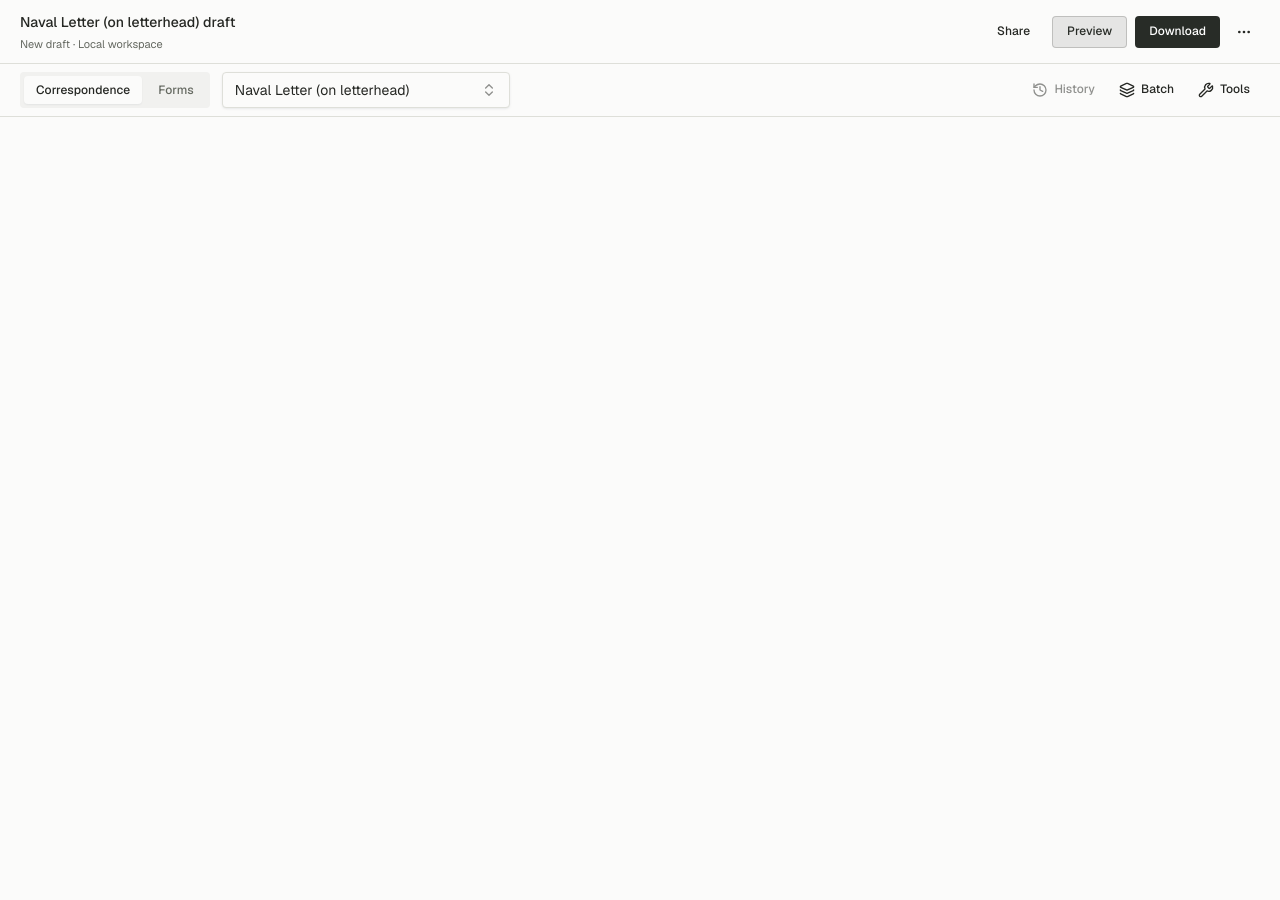
Test case: distinguishes individual draft files from the whole workspace backup
This screenshot has width=1280, height=900.
Click the button named "Document actions": click(1244, 32) [1228,16,1260,48]
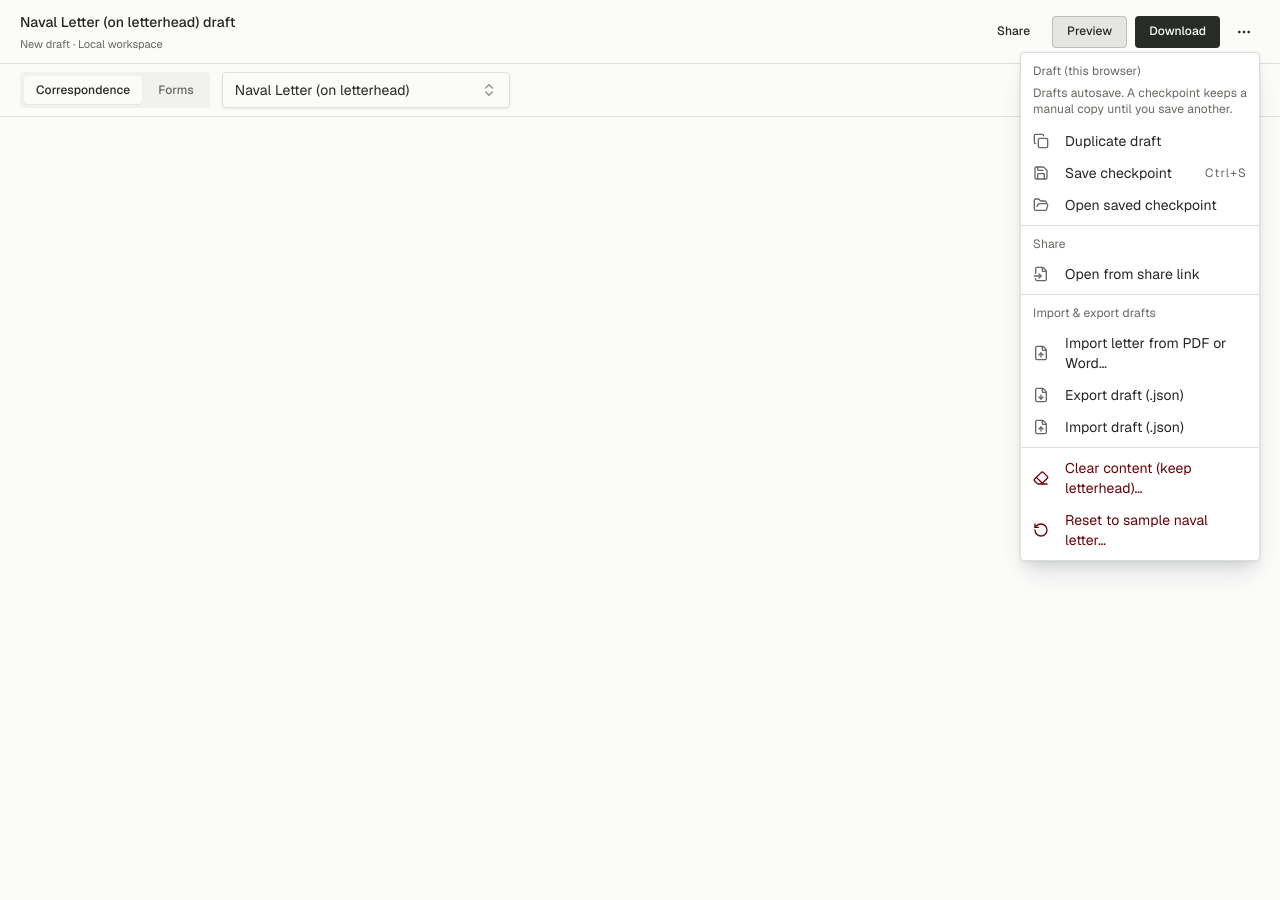
Now the menu item "Export draft (.json)" is shown, box [1033,386,1184,404]
Now the menu item "Import draft (.json)" is shown, box [1033,418,1184,436]
Now the text "Drafts autosave. A checkpoint keeps a manual copy until you save another." is shown, box [1025,85,1255,125]
